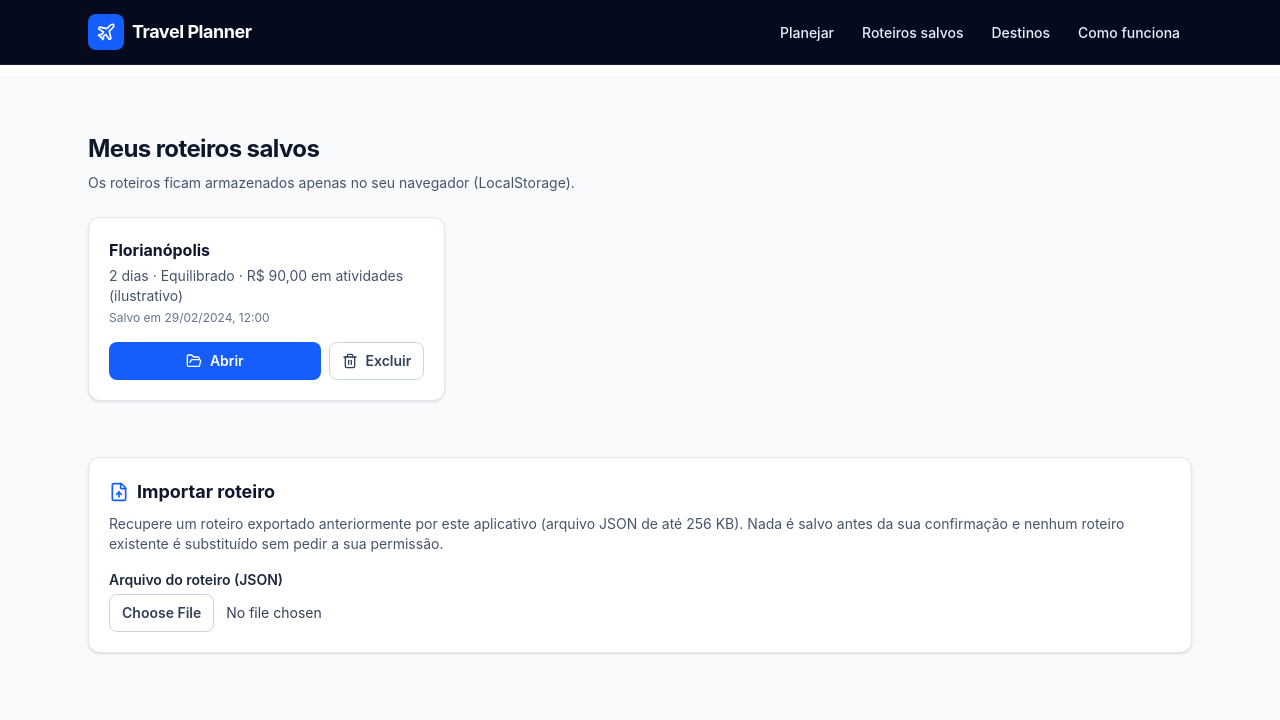
Test: HomePage — interações de persistência (P3) › exclui um roteiro com sucesso confirmado e grava array vazio (sem remover a chave)
(page scrolled)
Click the button with aria-label "Excluir roteiro de Florianópolis". click: (376, 361)
box: [329, 342, 424, 380]
(page scrolled)
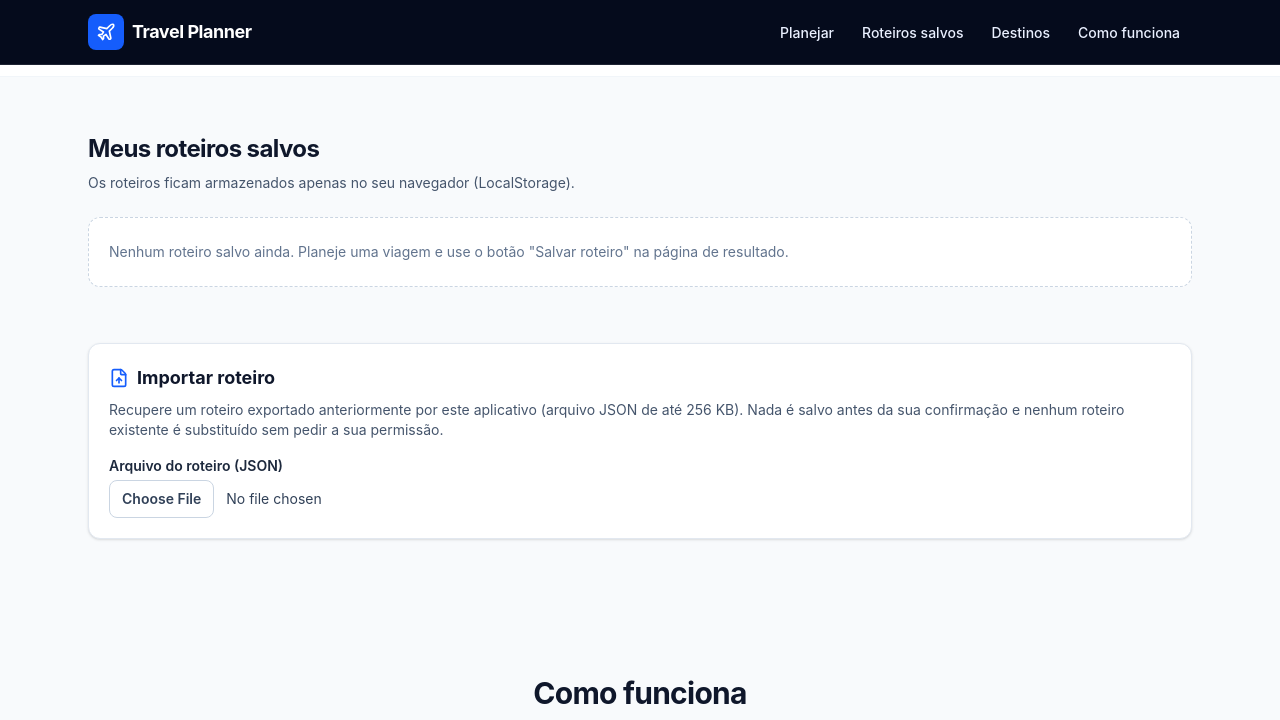
Now the text "Nenhum roteiro salvo ainda" is shown, box [109, 243, 789, 260]
